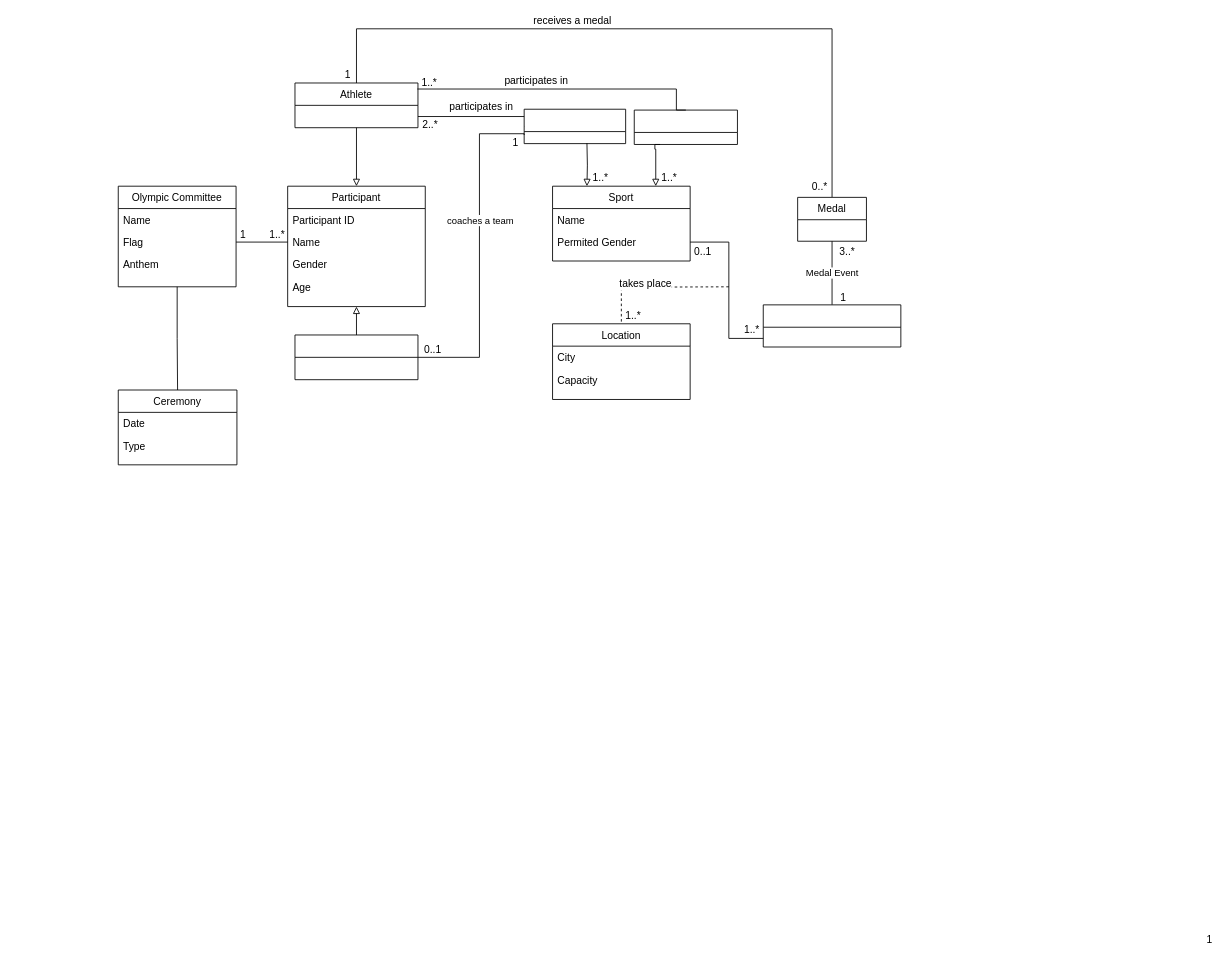
Some shapes in this 1228 by 961 pixel diagram are drawn without their labels. The centre of each missing label's shape, as x and y in pixels:
Coach: point (356, 357)
Collective Discipline: point (574, 126)
Competition: point (831, 325)
Individual Discipline: point (685, 126)
